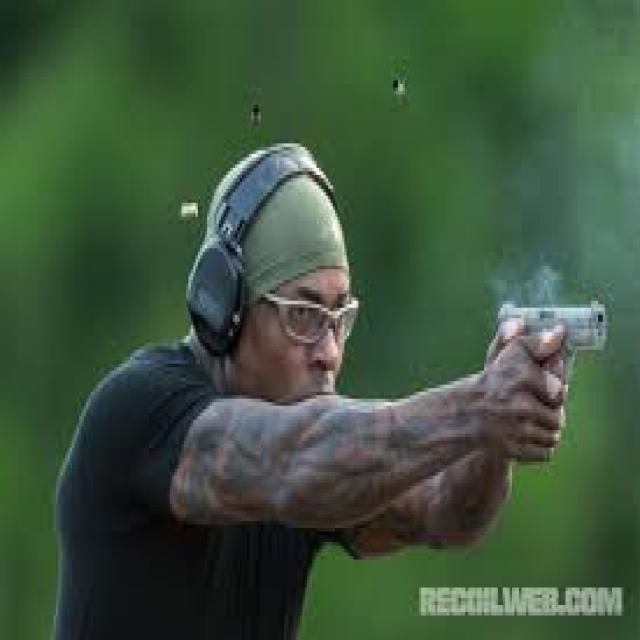Gun: (489, 291, 611, 395)
